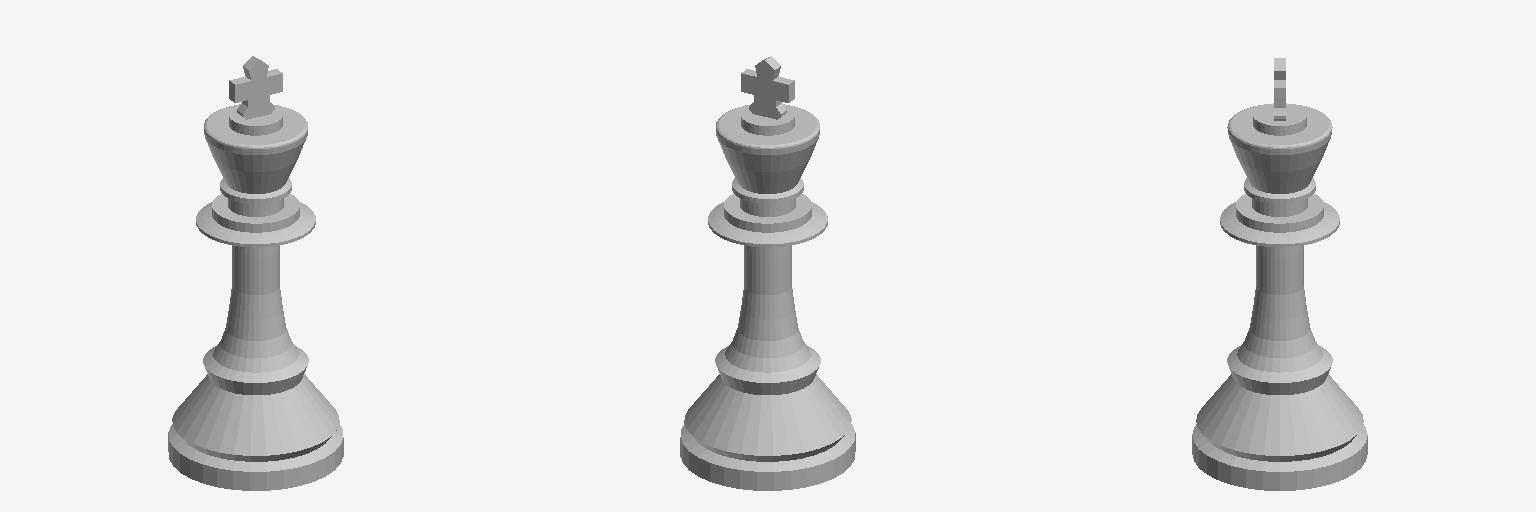
The model's file is king.obj.
The picture shows the model from 3 angles: view 1: azimuth 30°, elevation 25°; view 2: azimuth 150°, elevation 25°; view 3: azimuth 270°, elevation 25°; orthographic projection.
Visible parts, largest first — view 1: Cylinder; view 2: Cylinder; view 3: Cylinder.
Part boxes in pixels (x1,y1,x2,y2): Cylinder: (168,56,343,490); Cylinder: (680,56,855,490); Cylinder: (1192,58,1367,490).
Bounding box in the file's own units: 1.96 × 4.88 × 1.96.